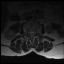CCS_normal: (30, 28, 32, 37)
LFS_normal: (34, 28, 37, 35)
LLS_normal: (32, 28, 34, 36)
RFS_normal: (26, 28, 28, 35)
RLS_normal: (28, 28, 30, 36)
